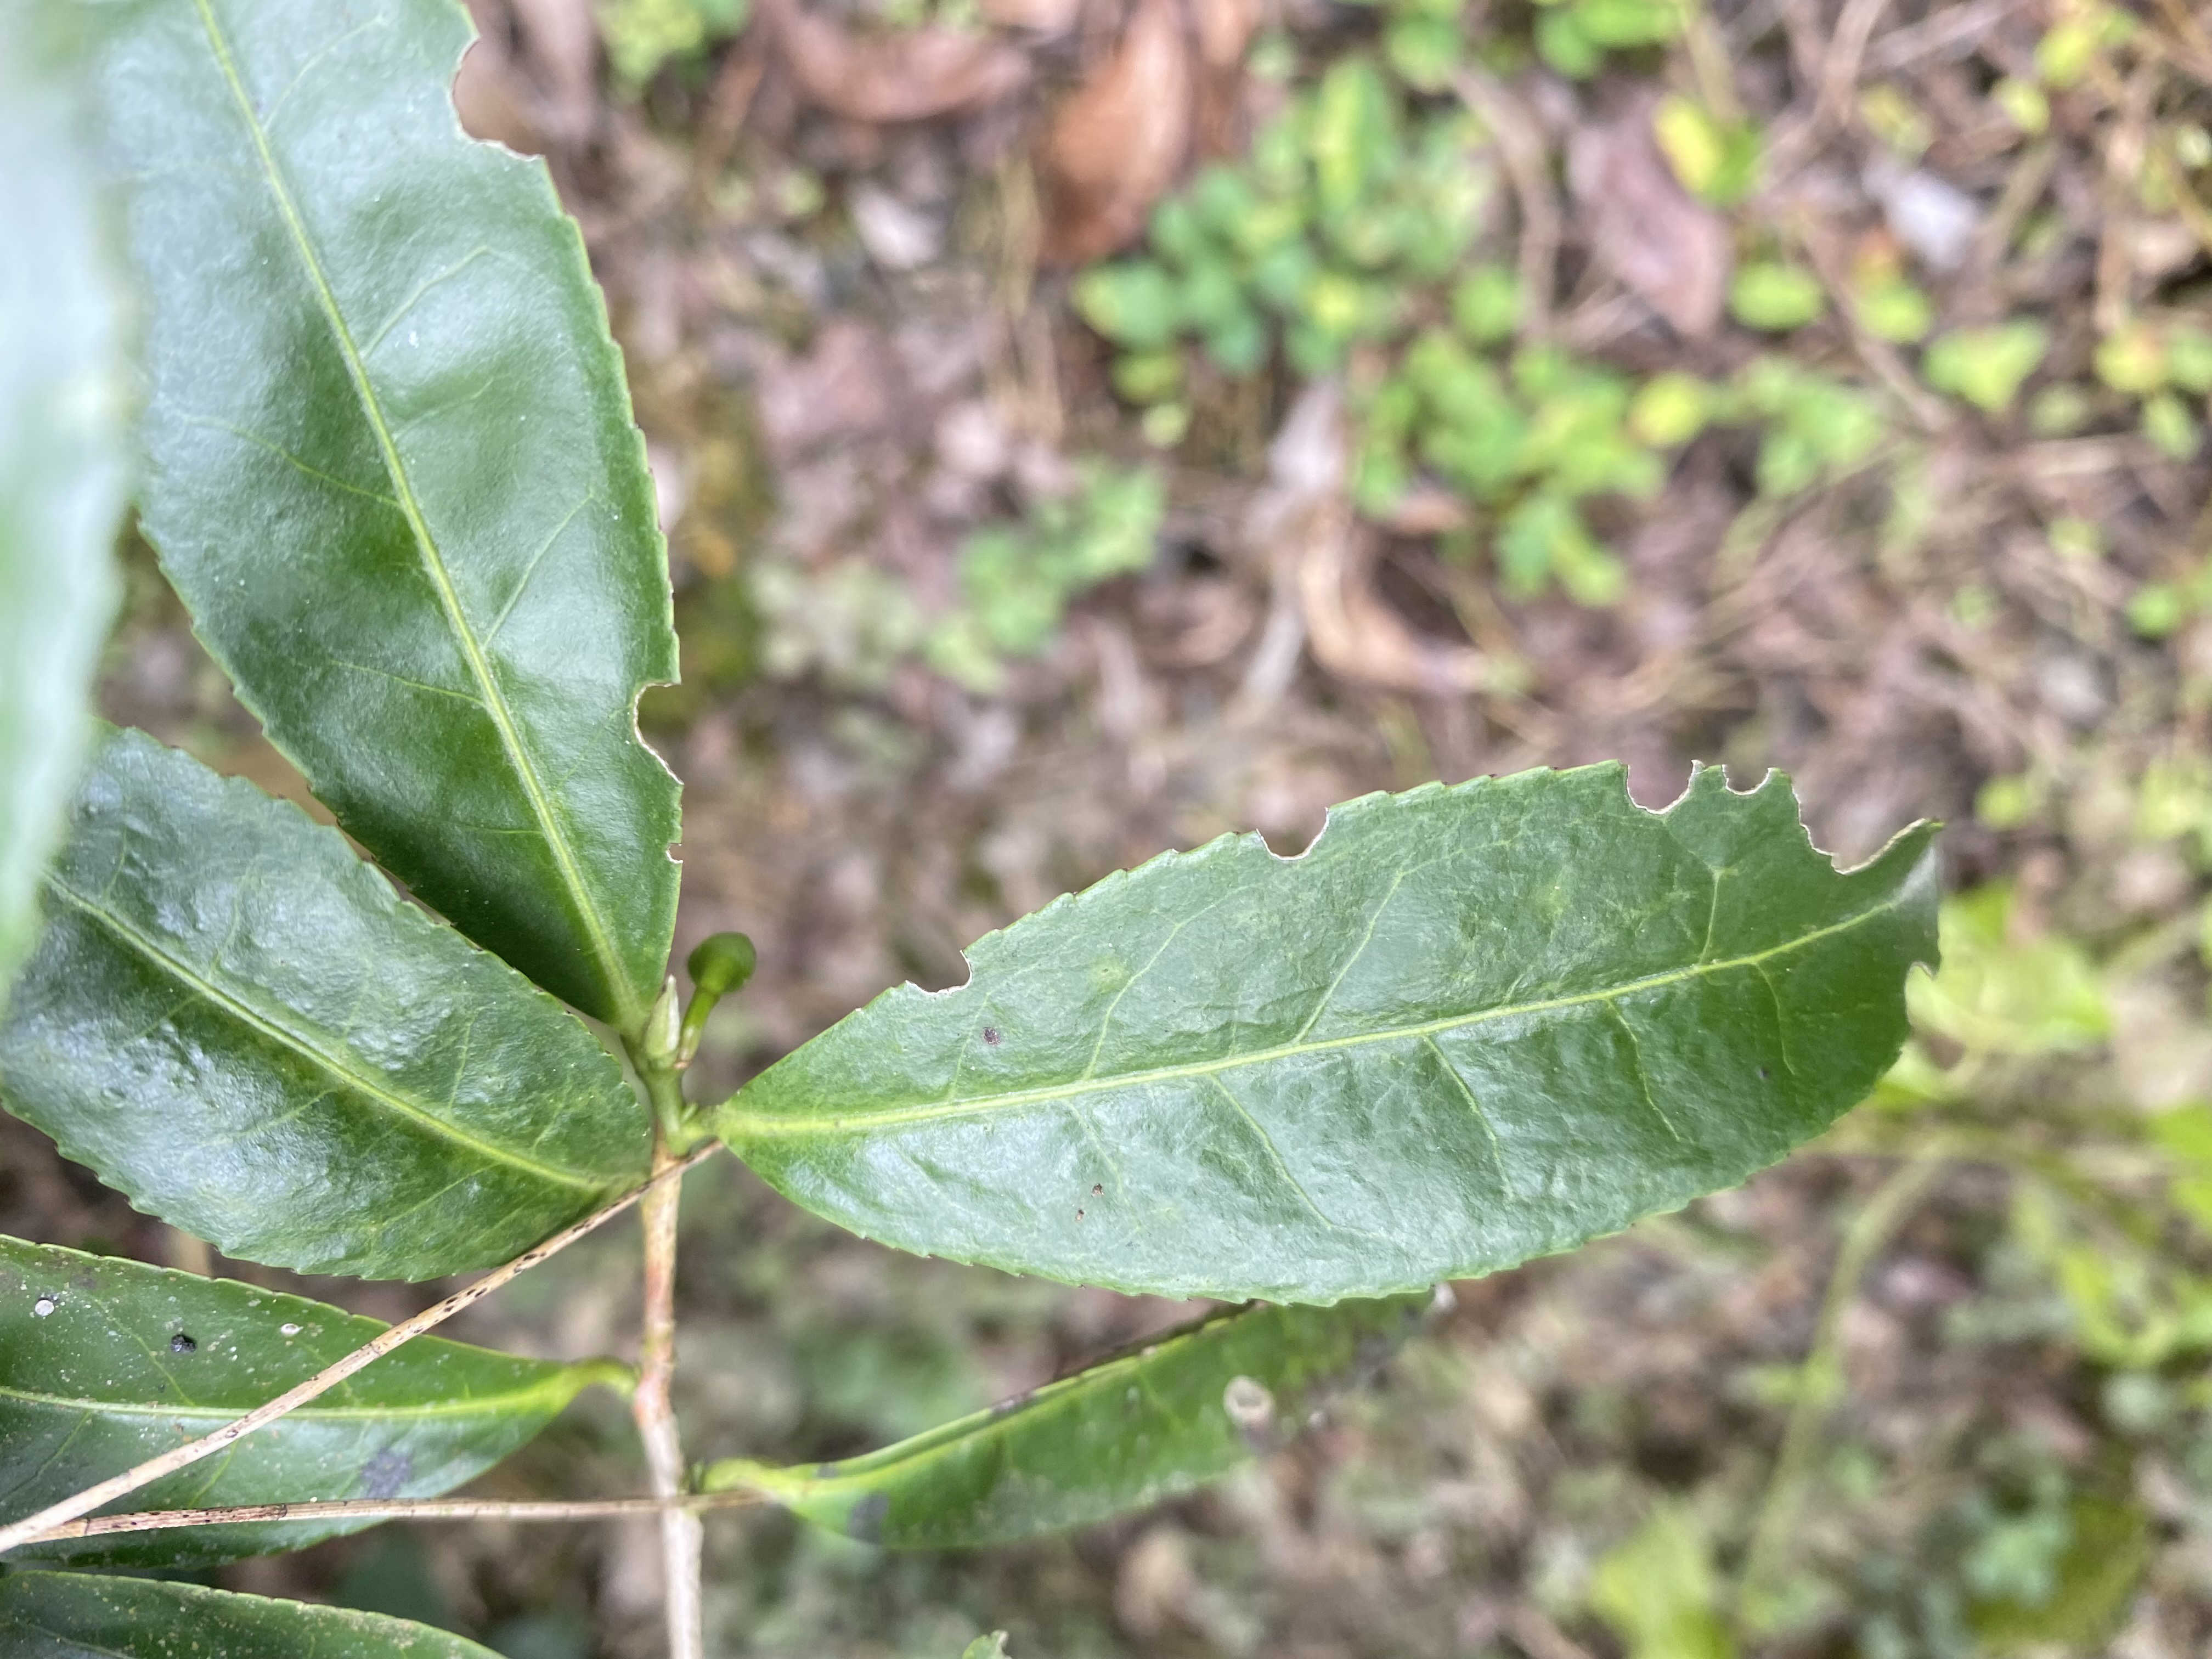chihuo_high: (711, 755, 1949, 1309), (105, 3, 685, 1046)
healthy: (2, 718, 657, 1286)
